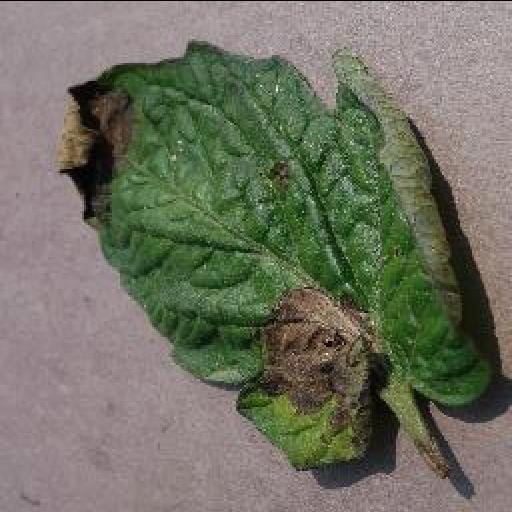disease_tomato: (58, 38, 494, 470)
